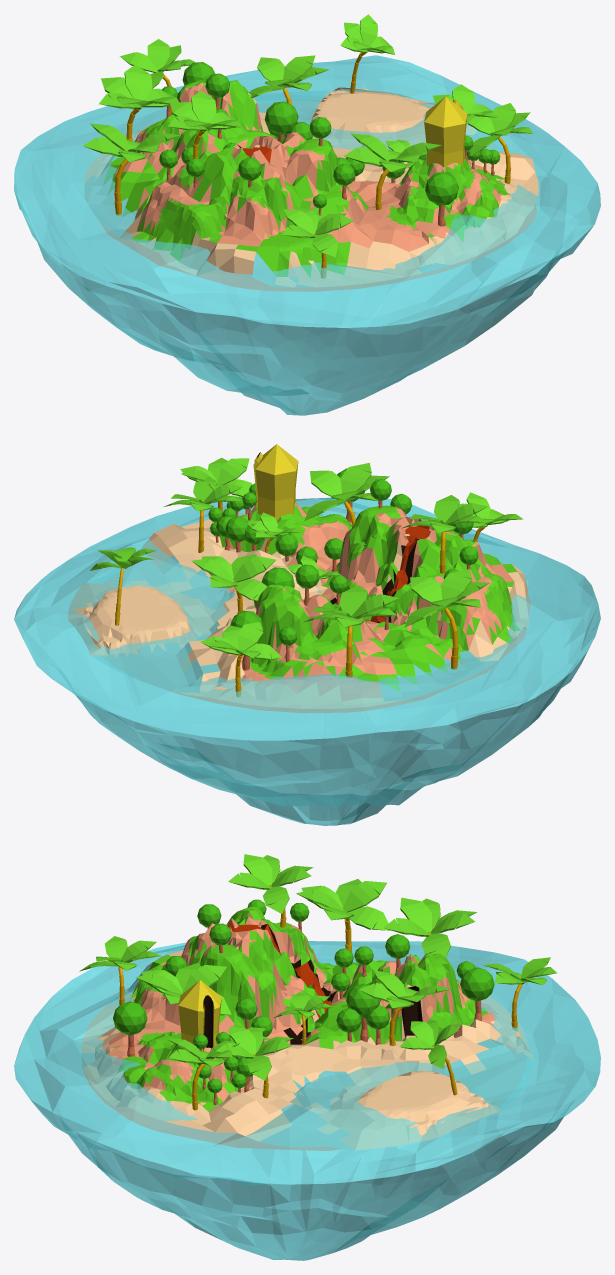
Rendered from island-summer.glb.
3 renders of one model, top to bottom at view 1: azimuth 30°, elevation 25°; view 2: azimuth 150°, elevation 25°; view 3: azimuth 270°, elevation 25°, orthographic.
Visible parts, largest first — view 1: Island, Plane, Plane.001, Cylinder, Plane.010, Plane.004, Plane.007, Plane.009, Plane.011, Plane.012, Plane.013, Plane.005 (+4 smaller); view 2: Island, Plane, Cylinder, Plane.011, Plane.012, Plane.007, Plane.010, Plane.005, Plane.001, Plane.009, Plane.013, Plane.008 (+3 smaller); view 3: Island, Plane, Plane.011, Plane.010, Plane.009, Cylinder, Plane.001, Plane.012, Plane.008, Plane.007, Plane.006, Plane.004 (+6 smaller).
Part boxes in pixels (x1,y1,x2,y2): Island: (14, 55, 600, 415); Plane: (84, 79, 538, 287); Plane.001: (84, 195, 536, 291); Cylinder: (424, 96, 467, 167); Plane.010: (99, 64, 178, 109); Plane.004: (282, 207, 353, 257); Plane.007: (248, 55, 329, 97); Plane.009: (168, 91, 241, 130); Plane.011: (83, 123, 180, 162); Plane.012: (344, 133, 441, 171); Plane.013: (467, 103, 533, 155); Plane.005: (120, 39, 195, 88); Island: (14, 497, 600, 825); Plane: (68, 502, 529, 708); Cylinder: (253, 444, 298, 520); Plane.011: (404, 569, 489, 627); Plane.012: (304, 463, 389, 521); Plane.007: (191, 554, 276, 600); Plane.010: (303, 585, 398, 627); Plane.005: (200, 622, 281, 660); Plane.001: (157, 593, 530, 712); Plane.009: (401, 495, 487, 532); Plane.013: (180, 457, 252, 497); Plane.008: (164, 476, 242, 511); Island: (14, 941, 600, 1260); Plane: (81, 907, 532, 1150); Plane.011: (296, 879, 390, 930); Plane.010: (383, 897, 477, 957); Plane.009: (228, 854, 313, 913); Cylinder: (178, 980, 221, 1050); Plane.001: (82, 1063, 479, 1150); Plane.012: (136, 963, 231, 1014); Plane.008: (216, 1026, 293, 1080); Plane.007: (359, 970, 451, 1008); Plane.006: (399, 1019, 462, 1068); Plane.004: (79, 936, 160, 971).
Size of the model in its own units: 2.36 by 1.54 by 2.41.
